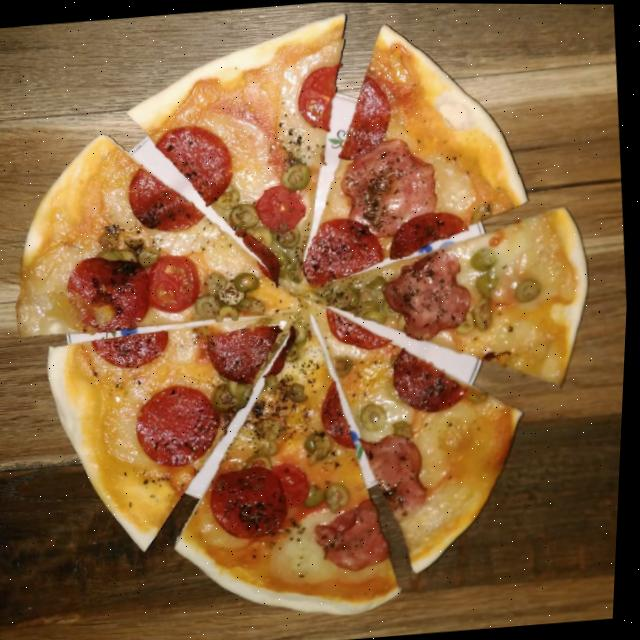green_olives: (277, 159, 315, 191), (357, 399, 392, 430), (229, 201, 264, 230), (306, 431, 335, 464), (327, 481, 354, 511), (213, 182, 245, 207), (336, 283, 363, 311), (232, 269, 262, 294), (211, 385, 242, 409), (470, 244, 498, 270), (474, 296, 496, 329), (514, 278, 544, 302), (218, 279, 247, 303), (256, 415, 285, 439), (290, 318, 313, 346), (195, 292, 221, 316), (274, 224, 302, 246), (476, 271, 499, 297), (392, 417, 418, 440), (243, 454, 276, 472), (249, 226, 274, 248), (287, 380, 312, 402), (213, 303, 243, 321), (273, 249, 292, 277), (238, 294, 266, 313), (456, 308, 477, 332), (204, 271, 229, 291), (335, 354, 357, 376), (96, 247, 124, 264), (356, 299, 382, 317), (137, 246, 160, 266), (307, 485, 328, 506), (362, 309, 387, 324), (264, 372, 281, 393), (383, 298, 403, 315), (123, 234, 147, 248), (98, 232, 120, 247), (287, 261, 304, 280), (367, 273, 387, 289), (118, 247, 139, 262), (286, 345, 304, 362), (269, 442, 283, 457), (233, 384, 250, 396), (397, 312, 410, 327), (230, 377, 239, 394)
pepperoni: (132, 381, 225, 469), (62, 248, 154, 330), (152, 122, 236, 209), (299, 211, 390, 287), (210, 463, 294, 542), (121, 163, 209, 233), (391, 340, 474, 414), (201, 322, 301, 382), (330, 71, 397, 160), (388, 209, 480, 257), (326, 302, 396, 351), (318, 377, 364, 451), (91, 330, 173, 371), (241, 227, 286, 282)
pizza: (0, 0, 626, 640)
tomatoes: (294, 62, 351, 129), (149, 249, 202, 314), (255, 181, 312, 233), (272, 461, 314, 509)
